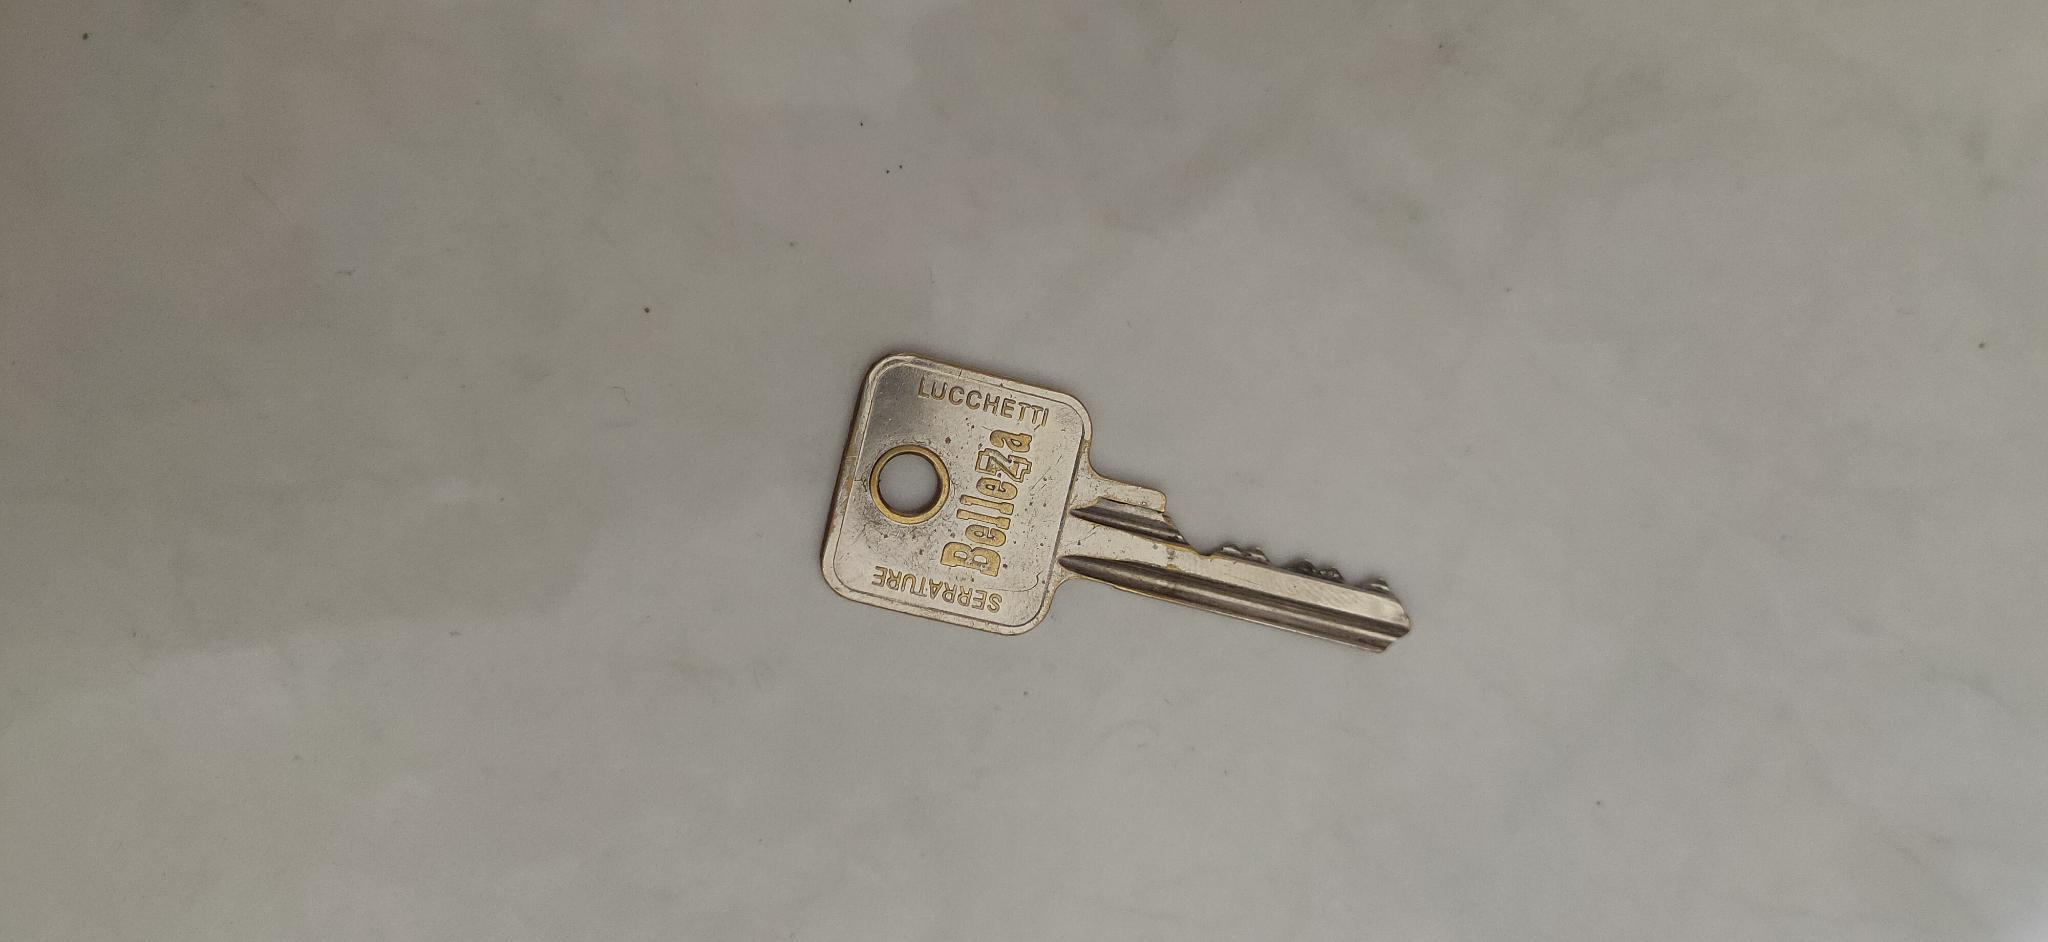keys: (802, 325, 1426, 685)
